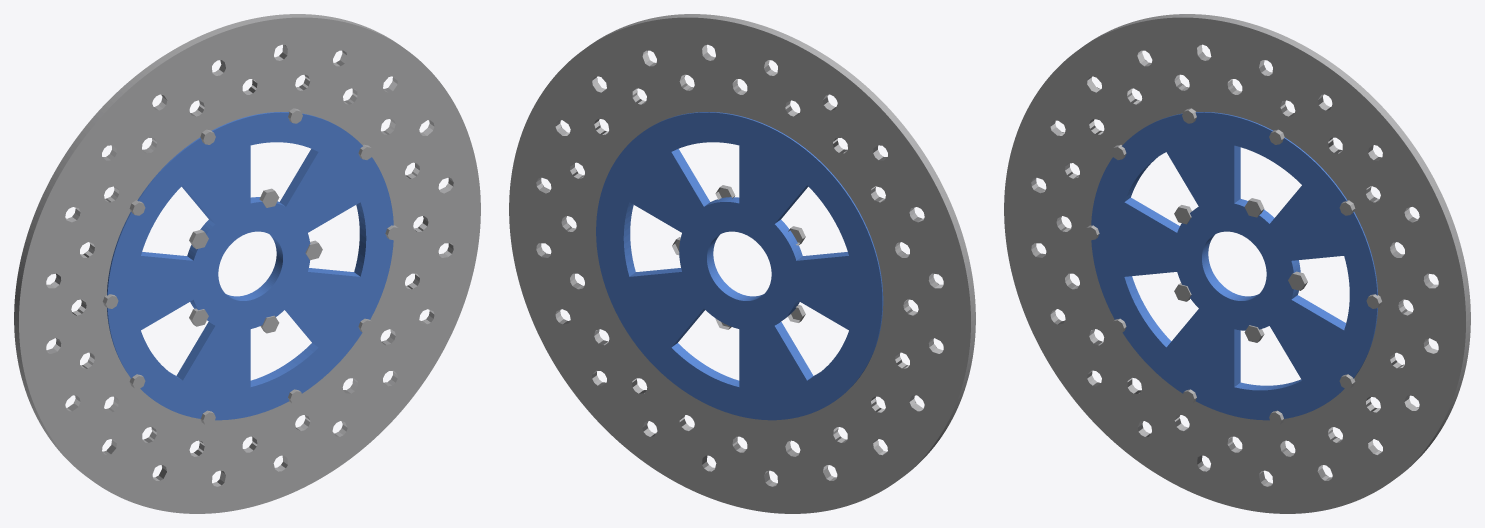
Rendered from floating_330_race.glb.
3 views of the same model, side by side, from view 1: azimuth 30°, elevation 25°; view 2: azimuth 150°, elevation 25°; view 3: azimuth 330°, elevation 25° (orthographic).
Parts seen in each view (by area): view 1: floating_330_race; view 2: floating_330_race; view 3: floating_330_race.
Part boxes in pixels (x1=…): floating_330_race: x1=14, y1=14, x2=480, y2=513; floating_330_race: x1=509, y1=14, x2=975, y2=513; floating_330_race: x1=1004, y1=14, x2=1470, y2=513.
Bounding box in the file's own units: 0.33 × 0.33 × 0.011.
